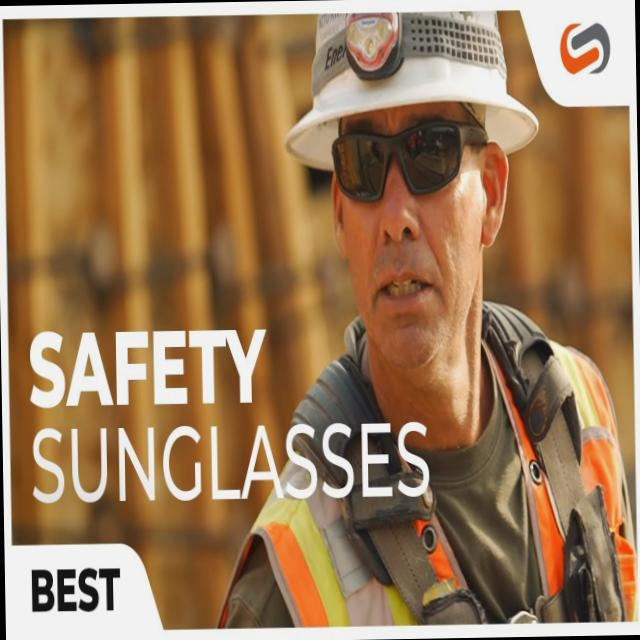goggles: (324, 118, 490, 226)
helmet: (285, 13, 540, 180)
vest: (277, 316, 628, 640)
